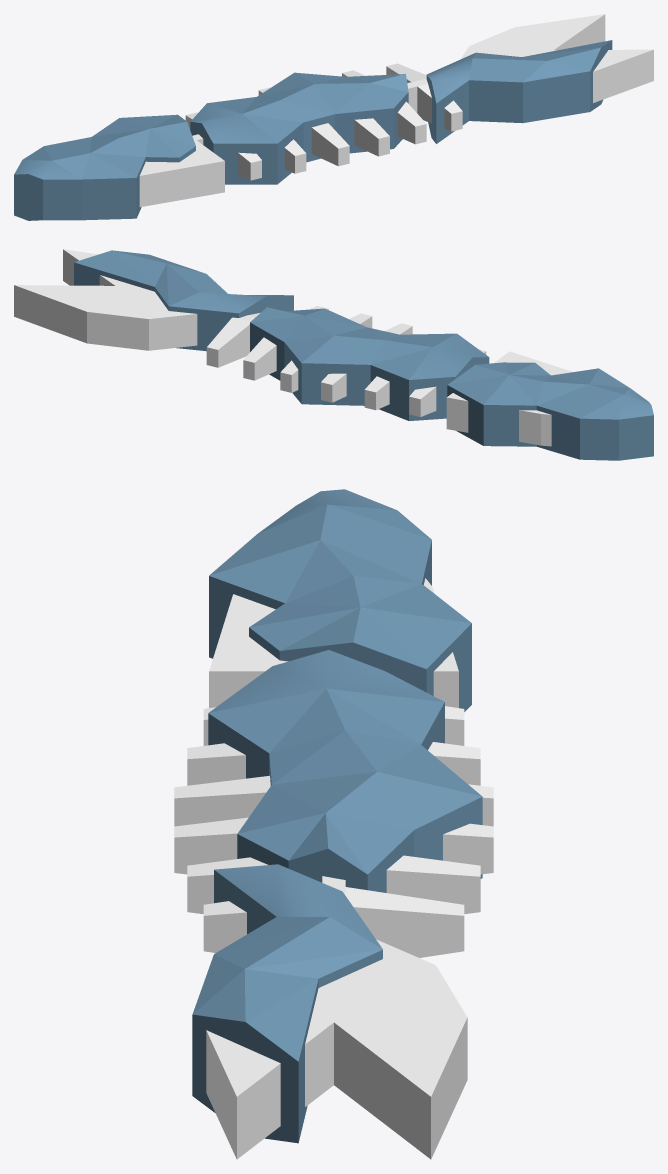
The model's file is Dead Fish 2.fbx.
3 renders of one model, top to bottom at view 1: azimuth 30°, elevation 25°; view 2: azimuth 150°, elevation 25°; view 3: azimuth 270°, elevation 25°, orthographic. The views are drawn at different scales.
Visible parts, largest first — view 1: Box005; view 2: Box005; view 3: Box005.
Boxes of the visible parts, left/top/right/bottom form: Box005: left=14, top=14, right=653, bottom=220; Box005: left=14, top=249, right=653, bottom=460; Box005: left=174, top=489, right=493, bottom=1159.
Size of the model in its own units: 114 by 10.61 by 25.7.
Materials: 1 (1 with a texture image).
